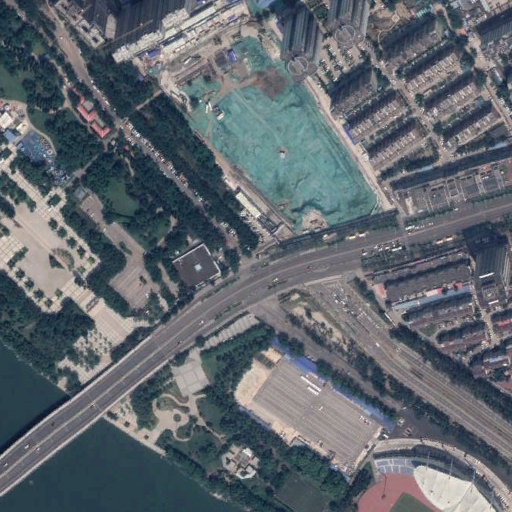cw: (171, 33, 383, 238)
